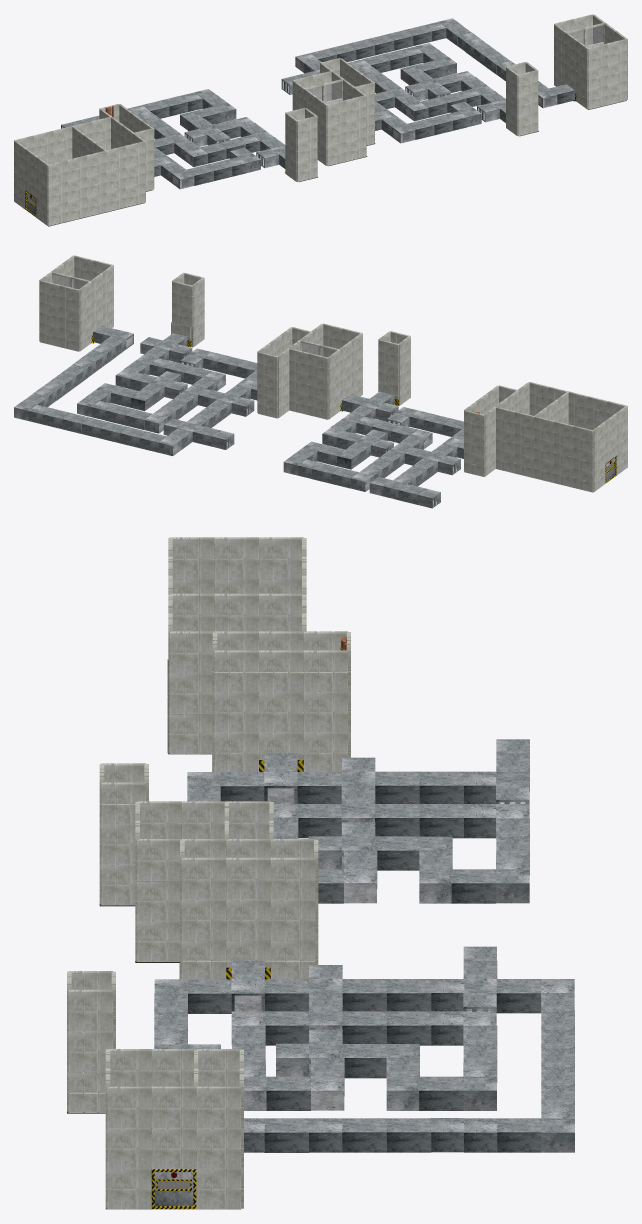
Rendered from Level2.fbx.
The picture shows the model from 3 angles, top to bottom: view 1: azimuth 30°, elevation 25°; view 2: azimuth 150°, elevation 25°; view 3: azimuth 270°, elevation 25°; orthographic projection. The views are drawn at different scales.
Parts seen in each view (by area): view 1: Wall_1.015, Wall_1.007, Wall_1.009, Wall_1.001, Wall_1.027, Wall_1.025, Wall_1.002, Wall_1.005, Wall_1.024, Wall_1.018, Wall_1.020, Wall_1.028 (+38 smaller); view 2: Wall_1.001, Wall_1.008, Wall_1.010, Wall_1.015, Wall_1.027, Wall_1.024, Wall_1.025, Wall_1.028, Wall_1.012, Wall_1.011, Wall_1.022, Wall_1.006 (+34 smaller); view 3: Wall_1.026, Wall_1.023, Wall_1.016, Wall_1.028, Wall_1.022, Wall_1.027, Wall_1.021, Wall_1.017, Wall_1.024, Wall_1.025, Wall_1.019, Door.005 (+44 smaller).
Part boxes in pixels (x1,y1,x2,y2): Wall_1.015: (48, 141, 145, 226); Wall_1.007: (327, 95, 365, 165); Wall_1.009: (588, 39, 626, 109); Wall_1.001: (14, 117, 110, 198); Wall_1.027: (14, 141, 48, 225); Wall_1.025: (554, 24, 587, 109); Wall_1.002: (297, 116, 316, 181); Wall_1.005: (518, 70, 537, 136); Wall_1.024: (292, 81, 327, 165); Wall_1.018: (285, 113, 297, 181); Wall_1.020: (506, 67, 518, 135); Wall_1.028: (99, 109, 145, 201); Wall_1.001: (495, 406, 593, 492); Wall_1.008: (289, 348, 328, 419); Wall_1.010: (40, 280, 79, 351); Wall_1.015: (529, 382, 627, 464); Wall_1.027: (593, 406, 627, 491); Wall_1.024: (328, 333, 362, 419); Wall_1.025: (79, 265, 113, 351); Wall_1.028: (484, 382, 529, 476); Wall_1.012: (258, 352, 278, 418); Wall_1.011: (464, 410, 484, 476); Wall_1.022: (277, 323, 323, 417); Wall_1.006: (172, 281, 192, 327); Wall_1.026: (107, 1086, 240, 1209); Wall_1.023: (181, 857, 315, 979); Wall_1.016: (214, 650, 347, 771); Wall_1.028: (169, 631, 347, 754); Wall_1.022: (137, 839, 315, 961); Wall_1.027: (169, 537, 303, 594); Wall_1.021: (68, 989, 112, 1112); Wall_1.017: (169, 593, 301, 631); Wall_1.024: (137, 801, 270, 839); Wall_1.025: (107, 1049, 240, 1086); Wall_1.019: (101, 782, 145, 905); Door.005: (151, 1168, 196, 1209).
Bounding box in the file's own units: 21926 × 2265 × 8537.
